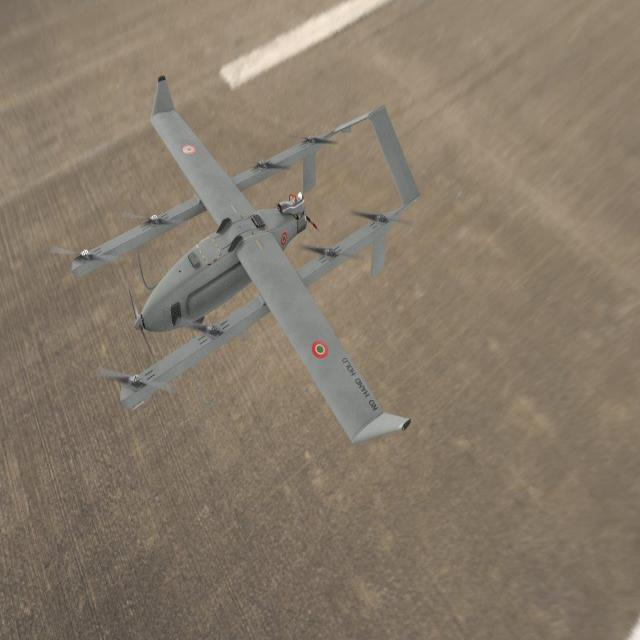iha: (71, 67, 423, 449)
